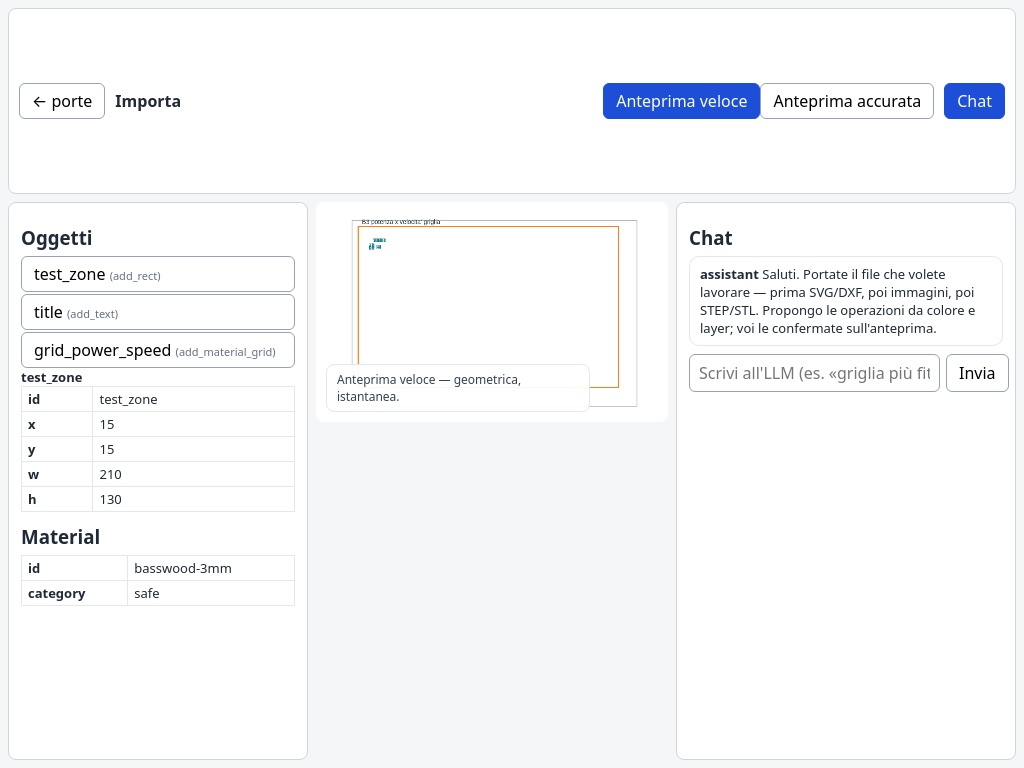
properties › reflects the selected: text object shows font fields and text
The image size is (1024, 768).
Click the button with test id "object-title": click(92, 313) [21,294,295,330]
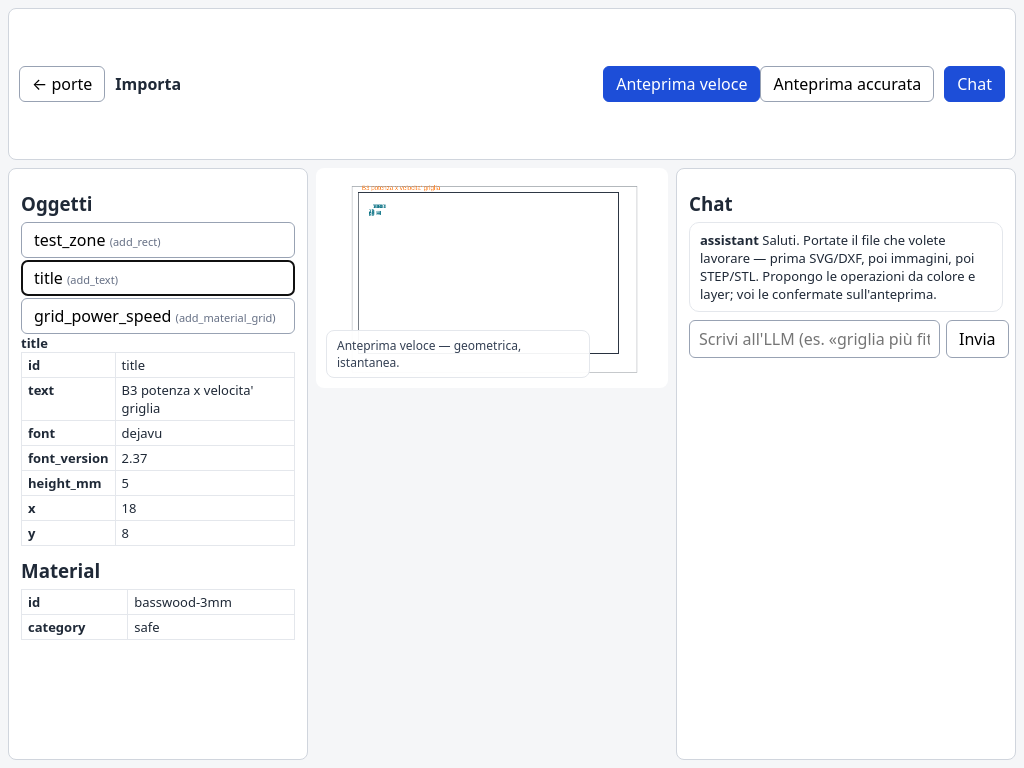
Expected: the table with test id "props-title" shows "potenza x velocita' griglia", [122,380,253,416]
Expected: the table with test id "props-title" shows "dejavu", [122,424,162,442]
Expected: the table with test id "props-title" shows "height_mm", [28,474,102,492]
